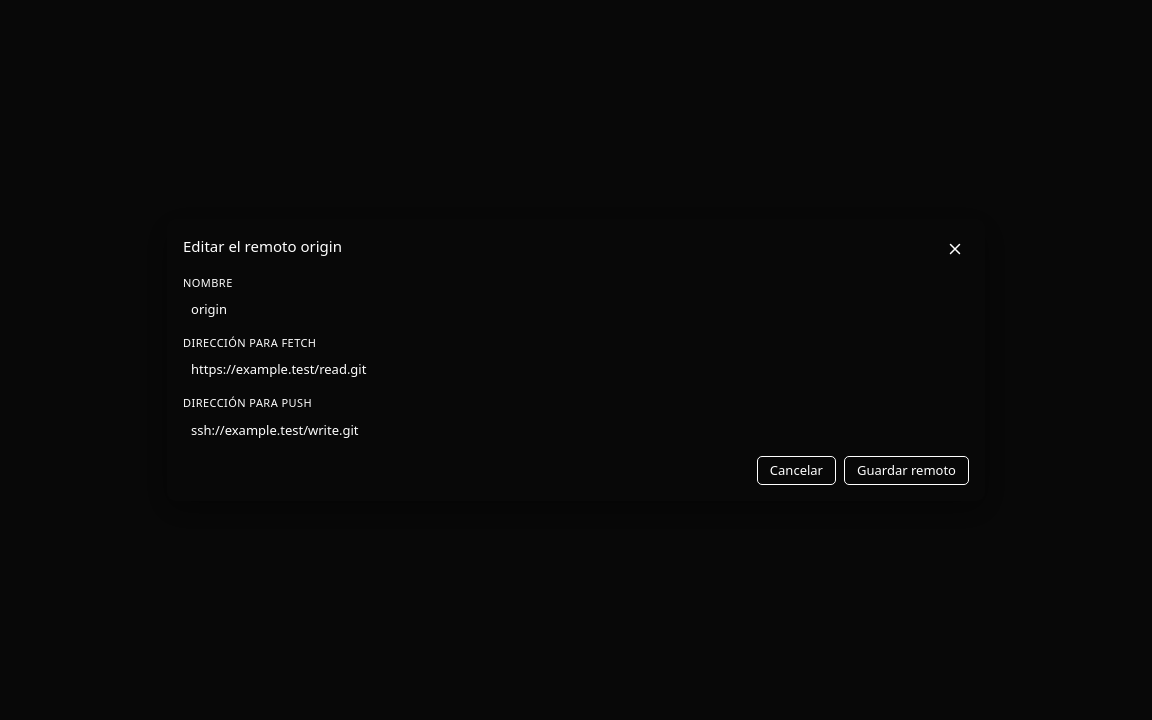
Test: RemoteDialog › conserva el remoto observado al editar y rechaza nombres repetidos
The image size is (1152, 720).
Replace the text in the field labelled "Nombre" with "backup". click: (576, 309)
box: [183,295,969,323]
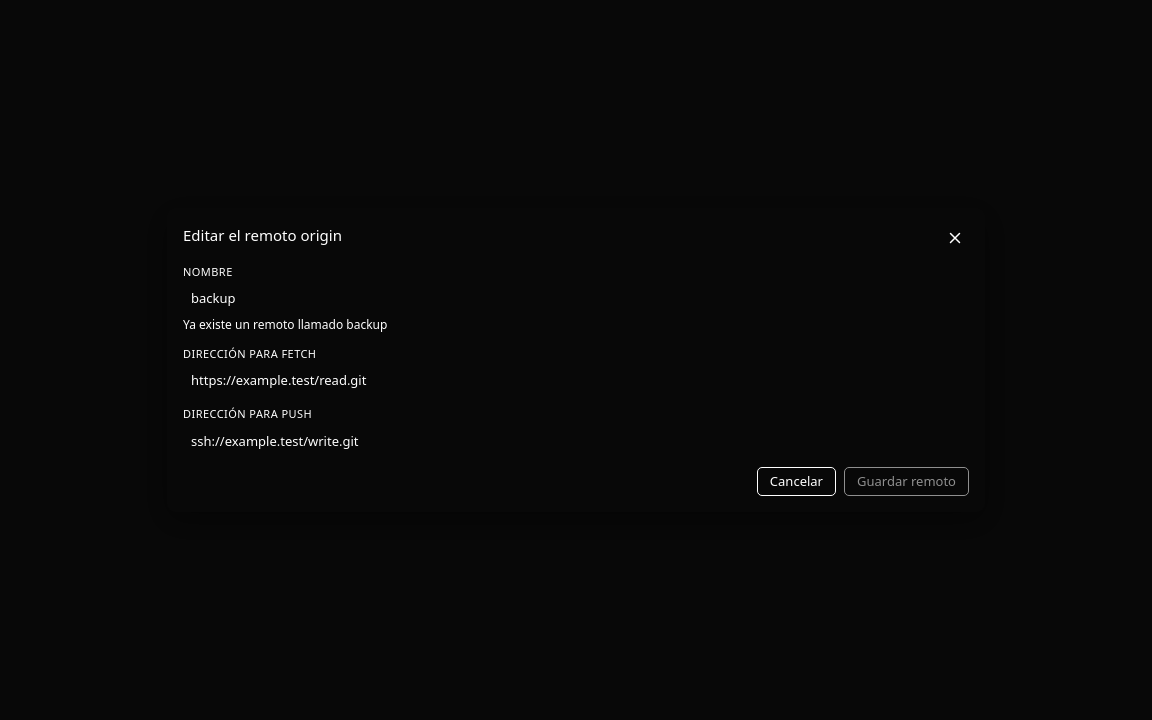
Check: the button "Guardar remoto" is disabled, box [844,467,969,496]
Check: the text "Ya existe un remoto llamado backup" is shown, box [183,316,387,333]
